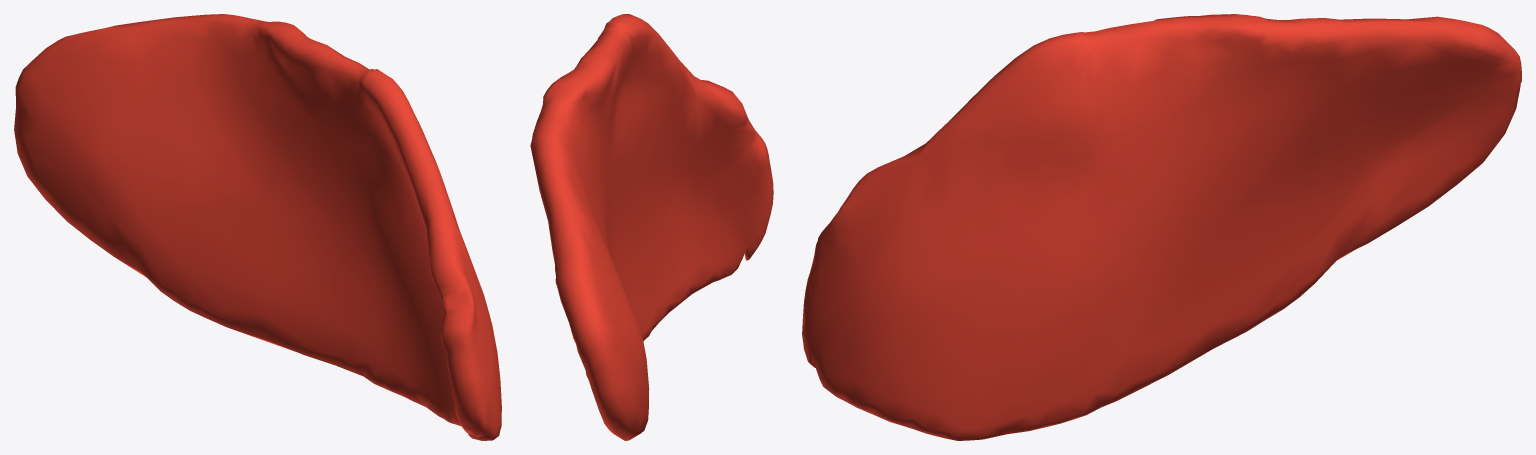
Rendered from Biceps_brachii_short_head_coracoid_process_left.glb.
3 views of the same model, side by side, from view 1: azimuth 30°, elevation 25°; view 2: azimuth 150°, elevation 25°; view 3: azimuth 270°, elevation 25° (orthographic). The views are drawn at different scales.
Visible parts, largest first — view 1: Short_head_of_biceps_brachii_on_coracoid_process_of_scapula.; view 2: Short_head_of_biceps_brachii_on_coracoid_process_of_scapula.; view 3: Short_head_of_biceps_brachii_on_coracoid_process_of_scapula..
Boxes of the visible parts, x1,y1,x2,y2 form: Short_head_of_biceps_brachii_on_coracoid_process_of_scapula.: [14, 14, 501, 440]; Short_head_of_biceps_brachii_on_coracoid_process_of_scapula.: [530, 14, 773, 440]; Short_head_of_biceps_brachii_on_coracoid_process_of_scapula.: [802, 14, 1521, 440].
Size of the model in its own units: 0.00421 by 0.00568 by 0.00966.
